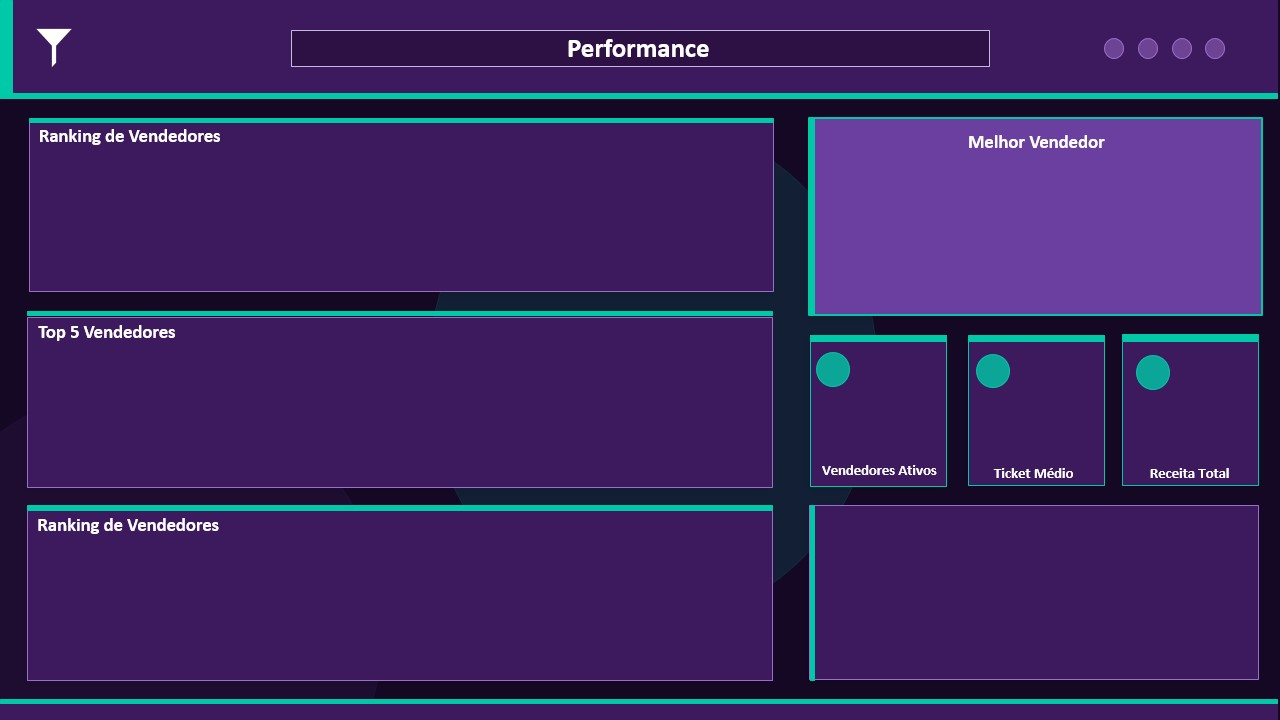

Layout of this report page (visuals, bound fields, positions):
{"tool":"powerbi","page":{"name":"Performance","canvas":[1280,720],"ordinal":2},"visuals":[{"type":"shape","box":[0,0,1279,48],"z":0},{"type":"textbox","box":[14,7,864,33],"z":0},{"type":"card","title":"Vendedores","fields":{"Values":["Medidas.Vendedores Ativos"]},"box":[14,57,278,105],"z":0},{"type":"card","title":"Receita Total","fields":{"Values":["Medidas.Receita Total"]},"box":[307,57,278,105],"z":0},{"type":"card","title":"Ticket Médio","fields":{"Values":["Medidas.Ticket Medio"]},"box":[600,57,278,105],"z":0},{"type":"card","title":"Qtd Pedidos","fields":{"Values":["Medidas.Qtd Pedidos"]},"box":[892,57,369,105],"z":0},{"type":"clusteredBarChart","fields":{"Category":["dim_vendedores.vendedor"],"Y":["Medidas.Receita Total"]},"box":[14,177,748,552],"z":0},{"type":"scatterChart","fields":{"X":["dim_vendedores.qtd_pedidos"],"Y":["dim_vendedores.ticket_medio"],"Size":["dim_vendedores.total_vendas"],"Details":["dim_vendedores.vendedor"]},"box":[777,177,484,268],"z":0},{"type":"tableEx","fields":{"Values":["dim_vendedores.vendedor","dim_vendedores.total_vendas","dim_vendedores.qtd_pedidos","dim_vendedores.ticket_medio","dim_vendedores.clientes_atendidos"]},"box":[777,460,484,268],"z":0}]}

Visuals, with their boxes in screenshot pixels (x1, y1, x2, y2), scaled from the page's 1280x720 canvas onto the 1280x720 screenshot:
shape: <bbox>0, 0, 1279, 48</bbox>
textbox: <bbox>14, 7, 878, 40</bbox>
"Vendedores" card: <bbox>14, 57, 292, 162</bbox>
"Receita Total" card: <bbox>307, 57, 585, 162</bbox>
"Ticket Médio" card: <bbox>600, 57, 878, 162</bbox>
"Qtd Pedidos" card: <bbox>892, 57, 1261, 162</bbox>
clusteredBarChart - dim_vendedores.vendedor x Medidas.Receita Total: <bbox>14, 177, 762, 719</bbox>
scatterChart - dim_vendedores.qtd_pedidos x dim_vendedores.ticket_medio: <bbox>777, 177, 1261, 445</bbox>
tableEx - dim_vendedores.vendedor x dim_vendedores.total_vendas: <bbox>777, 460, 1261, 719</bbox>
